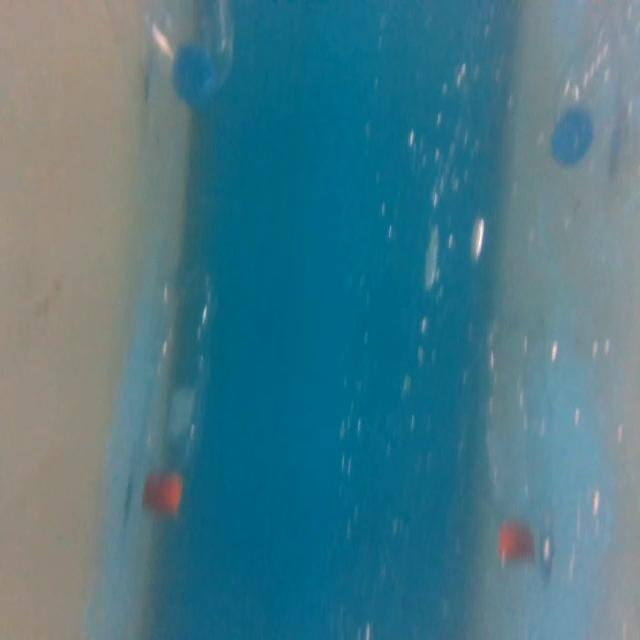plastic bottle: (140, 266, 220, 524), (129, 0, 235, 108)
